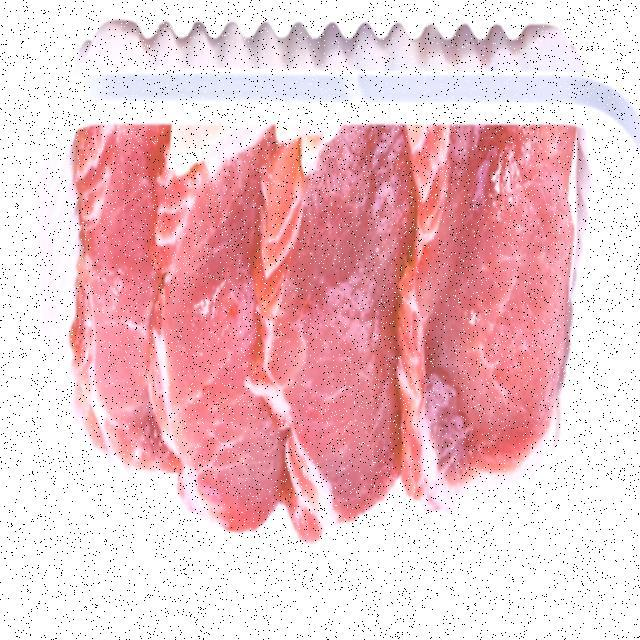pork: (405, 90, 573, 523), (264, 85, 397, 538), (158, 99, 272, 547), (74, 96, 175, 527)
